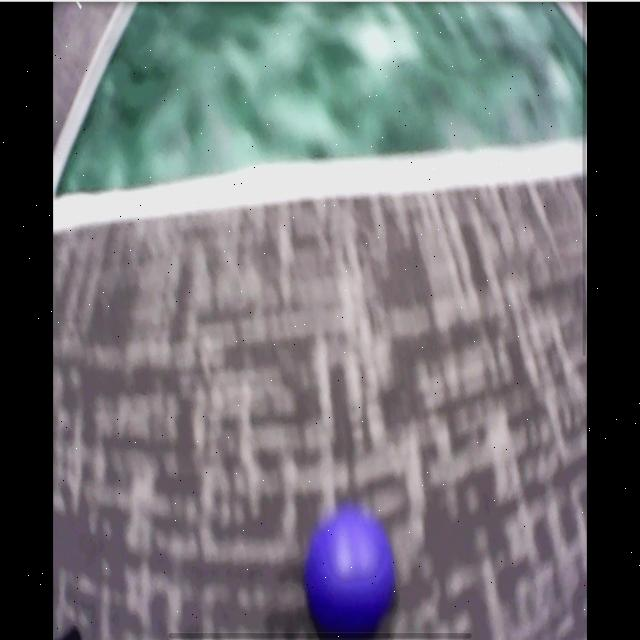ball: (308, 516, 397, 633)
